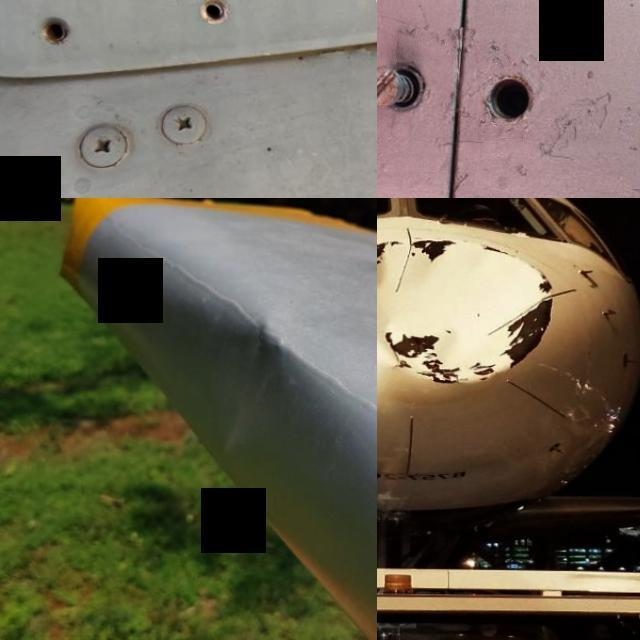Dent: (377, 239, 553, 379), (189, 302, 313, 470)
Missing_Fastener: (441, 40, 552, 154), (27, 2, 81, 61), (184, 0, 241, 37)
